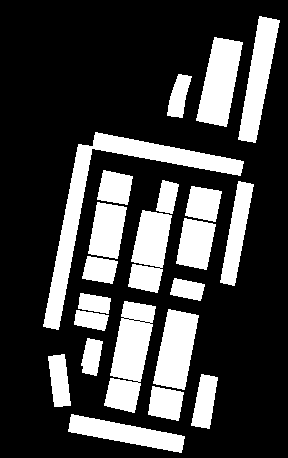parkingspot: (43, 144, 92, 329), (92, 132, 243, 175), (238, 16, 279, 142), (68, 414, 184, 452), (196, 37, 242, 126), (153, 309, 198, 389), (220, 181, 253, 285), (110, 318, 152, 381), (131, 210, 171, 267), (88, 202, 126, 258), (176, 218, 215, 269), (191, 374, 217, 428), (185, 186, 221, 221), (104, 378, 140, 412), (97, 170, 132, 204), (148, 386, 183, 420), (48, 354, 70, 406), (167, 74, 191, 117), (128, 264, 162, 292), (82, 256, 117, 283), (81, 338, 102, 375), (170, 278, 204, 300), (156, 180, 178, 213), (121, 301, 155, 322), (74, 310, 108, 330), (78, 293, 110, 313)
